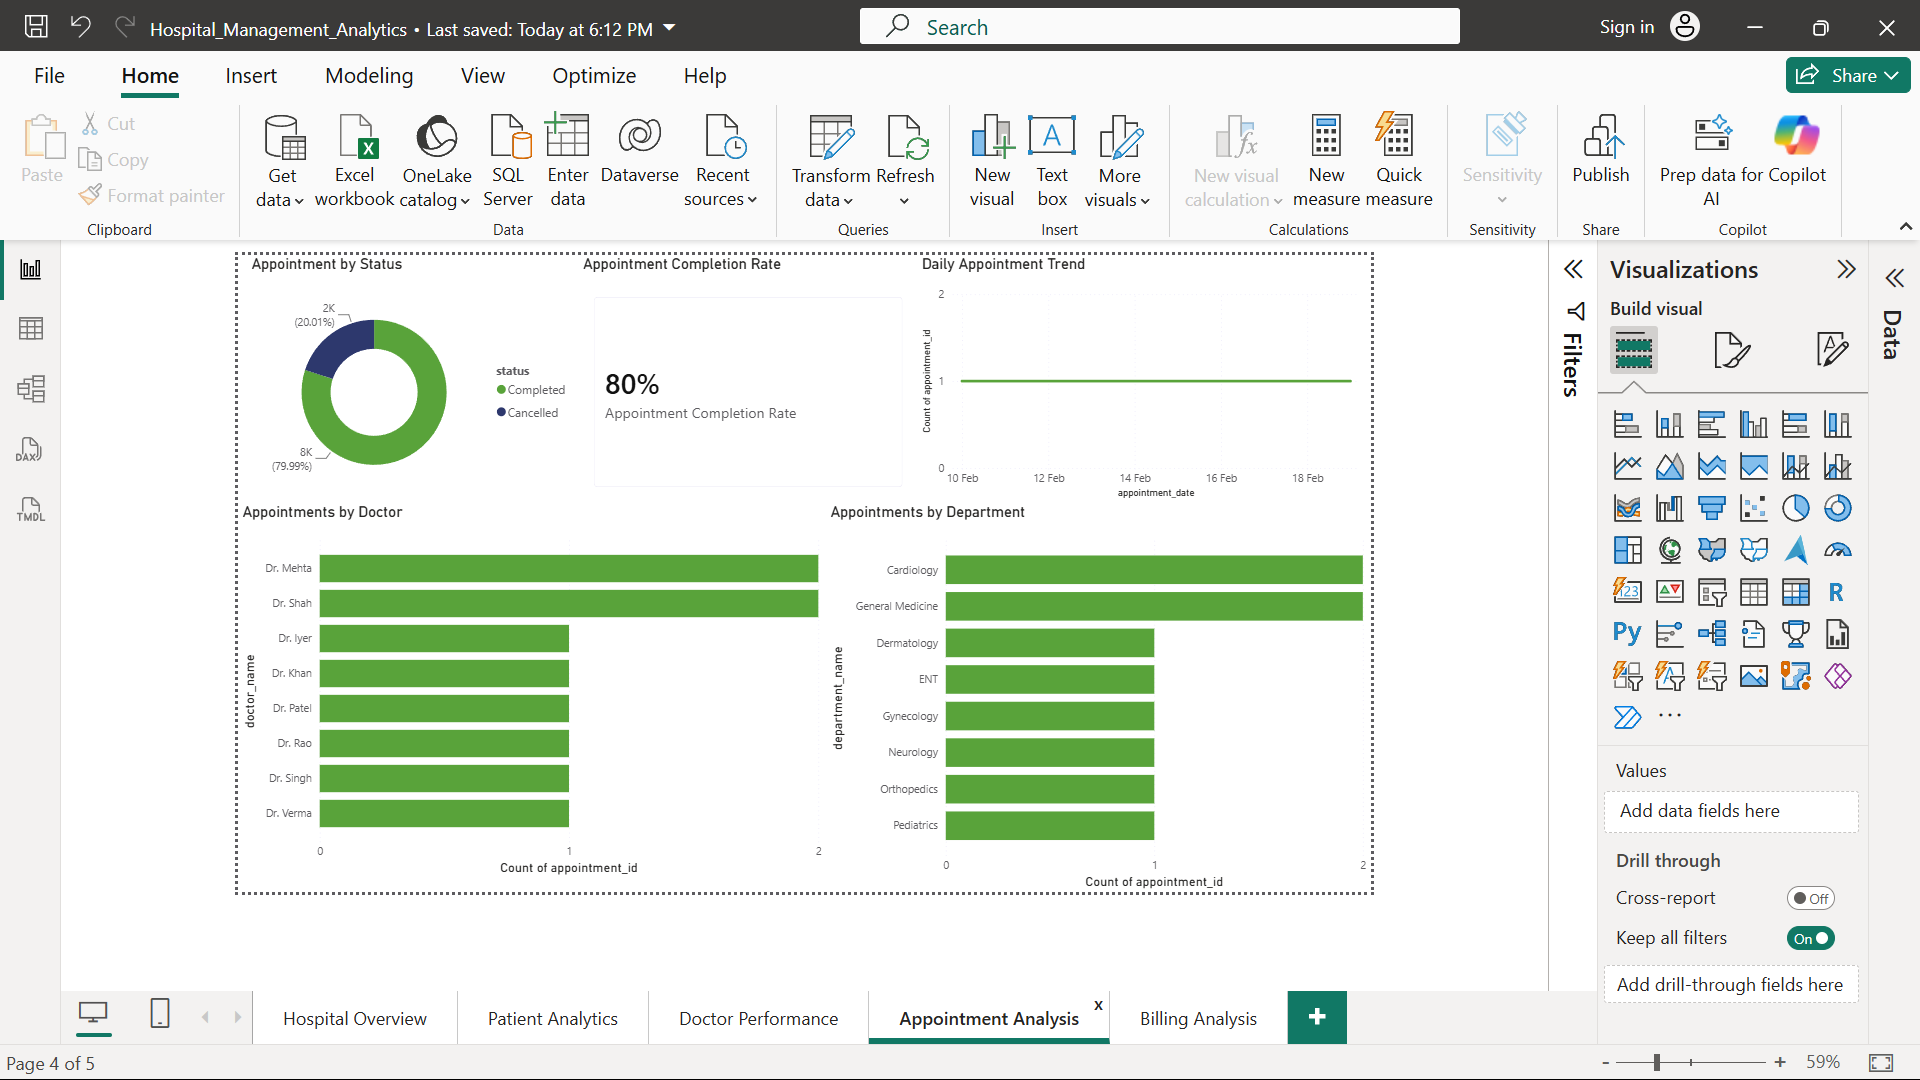

Layout of this report page (visuals, bound fields, positions):
{"tool":"powerbi","page":{"name":"Appointment Analysis","canvas":[1280,720],"ordinal":3},"visuals":[{"type":"donutChart","title":"Appointment by Status","fields":{"Category":["hospital_db appointments.status"],"Y":["Sum(hospital_db appointments.appointment_id)"]},"box":[10,0,374.5,280],"z":0},{"type":"cardVisual","title":"Appointment Completion Rate","fields":{"Data":["hospital_db admissions.Appointment Completion Rate"]},"box":[384.7,0,383.1,279.7],"z":1000},{"type":"lineChart","title":"Daily Appointment Trend","fields":{"Y":["CountNonNull(hospital_db appointments.appointment_id)"],"Category":["hospital_db appointments.appointment_date"]},"box":[767.8,0,511.9,279.7],"z":2000},{"type":"clusteredBarChart","title":"Appointments by Doctor","fields":{"Y":["CountNonNull(hospital_db appointments.appointment_id)"],"Category":["hospital_db doctors.doctor_name"]},"box":[0,279.7,664.4,425.4],"z":3000},{"type":"clusteredBarChart","title":"Appointments by Department","fields":{"Category":["hospital_db departments.department_name"],"Y":["CountNonNull(hospital_db appointments.appointment_id)"]},"box":[664.4,279.7,615.3,440.7],"z":4000}]}

Visuals, with their boxes on the page's 1280x720 design canvas (x1, y1, x2, y2). These are canvas units, not pixel positions in the 1920x1080 screenshot, which may show the page scaled, cropped or inside an application window:
"Appointment by Status" donutChart: x1=10, y1=0, x2=384, y2=280
"Appointment Completion Rate" cardVisual: x1=385, y1=0, x2=768, y2=280
"Daily Appointment Trend" lineChart: x1=768, y1=0, x2=1280, y2=280
"Appointments by Doctor" clusteredBarChart: x1=0, y1=280, x2=664, y2=705
"Appointments by Department" clusteredBarChart: x1=664, y1=280, x2=1280, y2=720
